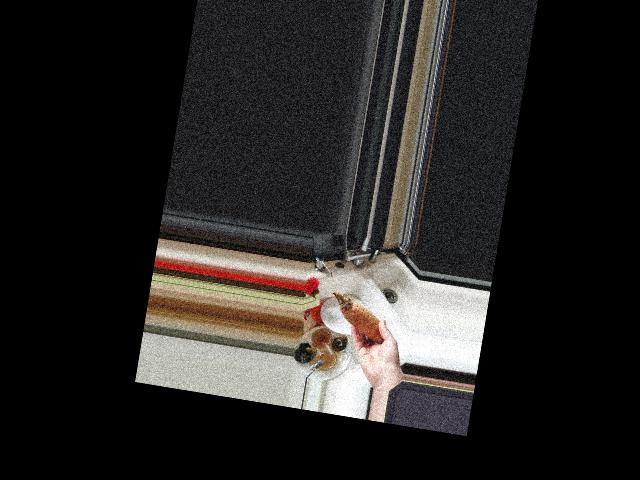sweet_potato: (323, 290, 395, 348)
